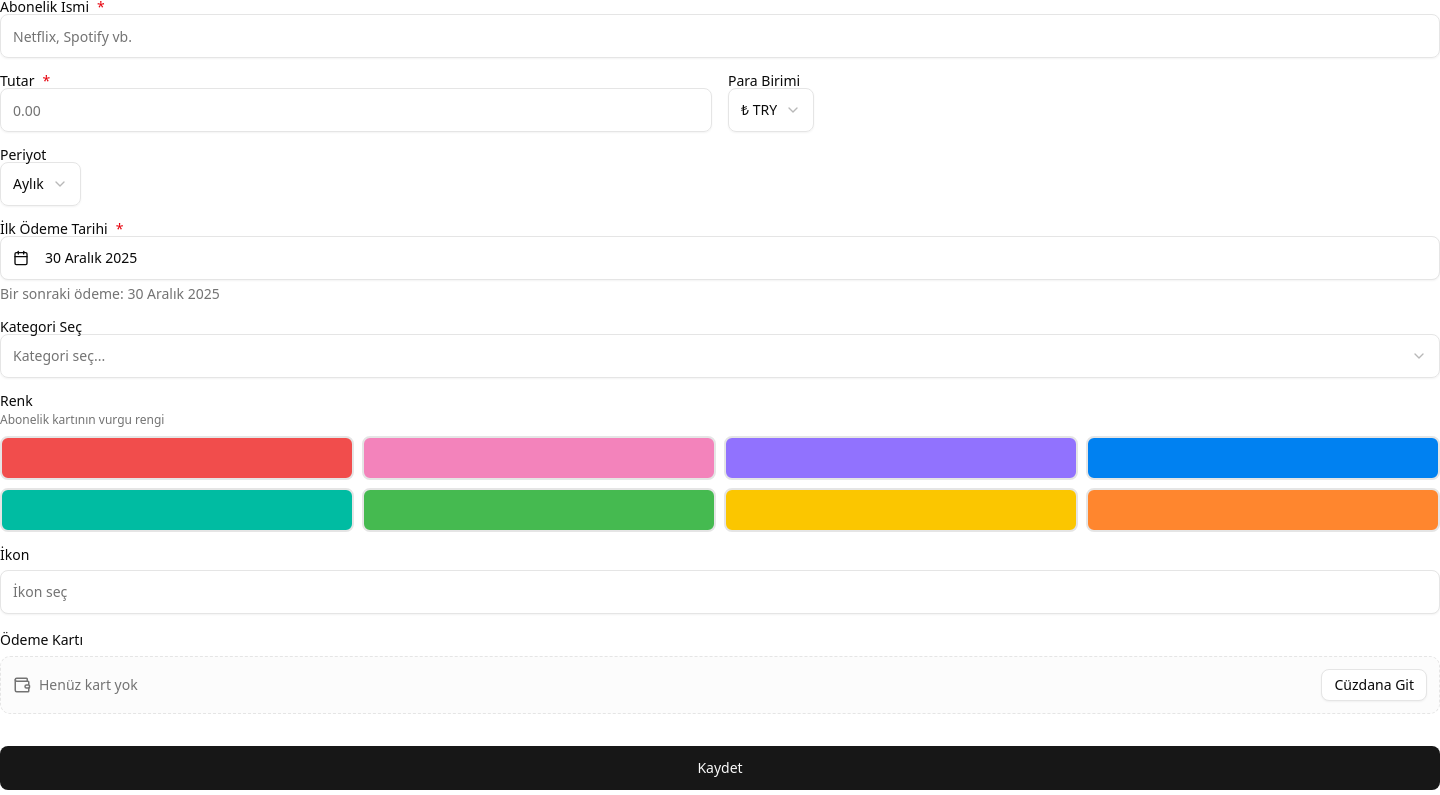
SubscriptionForm › Validation › should show error for empty name
Click the button "Kaydet" at (720, 768), box [0, 746, 1439, 790]
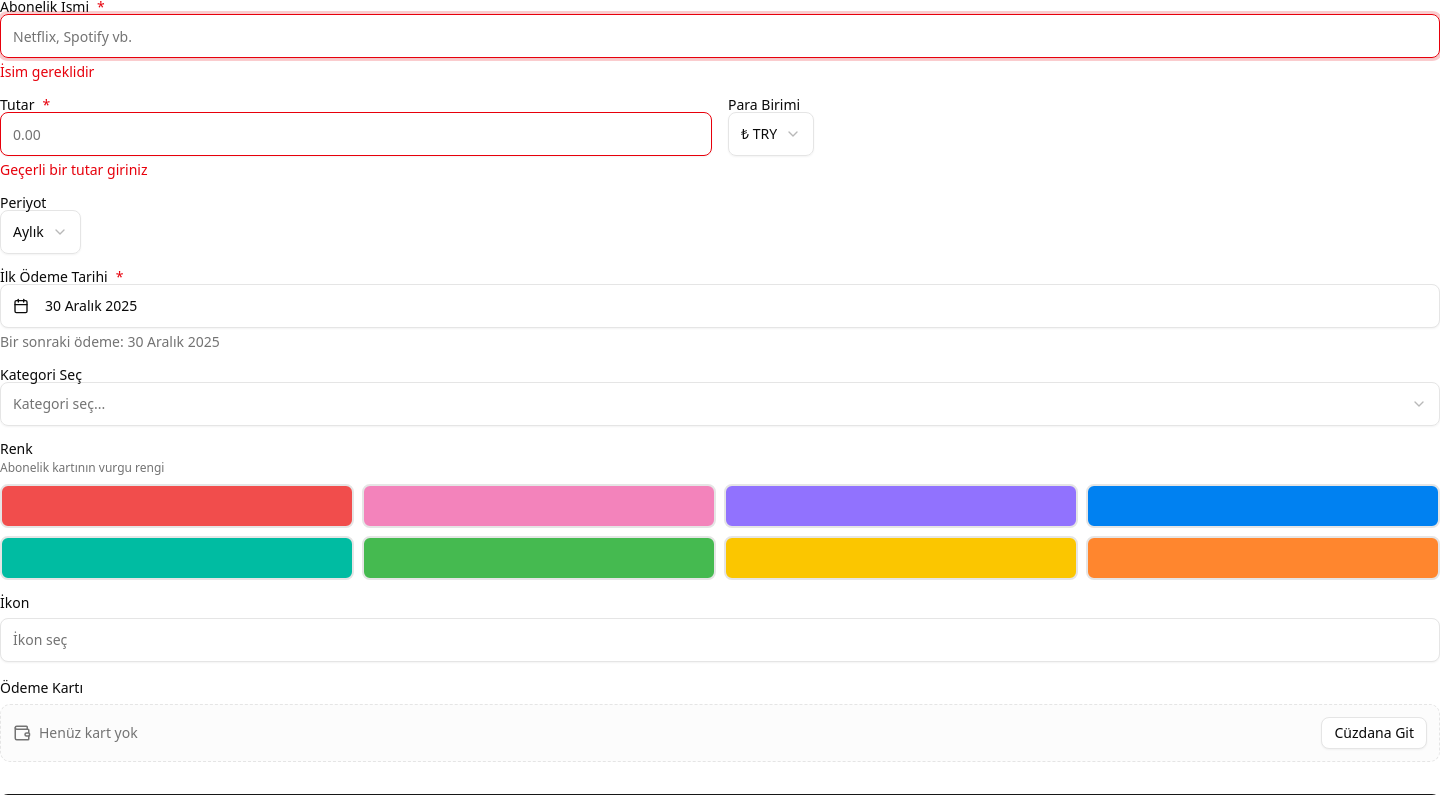
Now the text "İsim gereklidir" is shown, box [0, 62, 94, 81]
